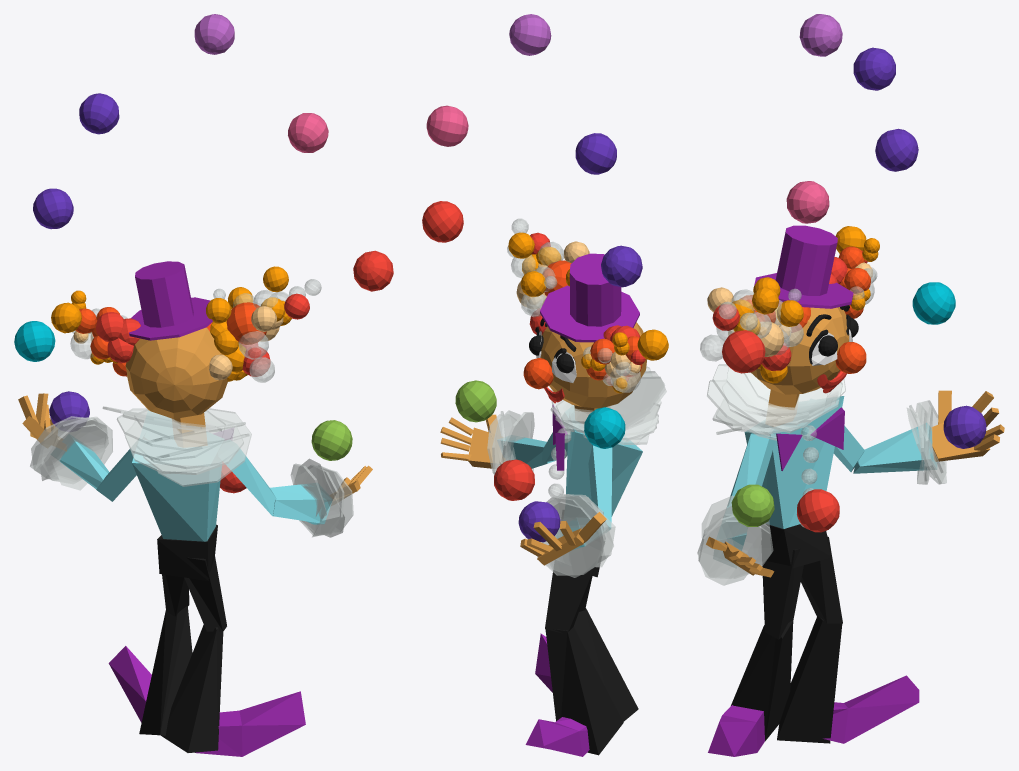
The model's file is clown.glb.
3 renders of one model, left to right at view 1: azimuth 30°, elevation 25°; view 2: azimuth 150°, elevation 25°; view 3: azimuth 270°, elevation 25°, orthographic. The views are drawn at different scales.
Visible parts, largest first — view 1: group1166919400, group745200281, group1932164913, group1967414317, group594973213, group2106079803, group1957194144, group402655206, group1767884918, group1244178379, group1338388713, group1126960633 (+35 smaller); view 2: group1967414317, group1166919400, group2106079803, group1932164913, group1969849262, group745200281, group1440303006, group1078805470, group1218340031, group482203096, group189487495, group1123830451 (+31 smaller); view 3: group1967414317, group1932164913, group745200281, group2106079803, group1166919400, group482203096, group1038402614, group1244178379, group594973213, group402655206, group1440303006, group1629626827 (+36 smaller).
Part boxes in pixels (bbox=[...]): group1166919400: bbox=[125, 327, 227, 418]; group745200281: bbox=[161, 624, 223, 752]; group1932164913: bbox=[132, 453, 221, 541]; group1967414317: bbox=[139, 606, 192, 735]; group594973213: bbox=[195, 691, 305, 756]; group2106079803: bbox=[135, 261, 193, 327]; group1957194144: bbox=[124, 410, 225, 461]; group402655206: bbox=[157, 524, 217, 580]; group1767884918: bbox=[157, 408, 251, 486]; group1244178379: bbox=[184, 557, 226, 631]; group1338388713: bbox=[270, 484, 331, 524]; group1126960633: bbox=[143, 418, 243, 474]; group1967414317: bbox=[545, 627, 623, 755]; group1166919400: bbox=[540, 322, 646, 408]; group2106079803: bbox=[569, 253, 621, 326]; group1932164913: bbox=[566, 428, 642, 516]; group1969849262: bbox=[540, 285, 639, 342]; group745200281: bbox=[573, 608, 638, 721]; group1440303006: bbox=[545, 567, 594, 633]; group1078805470: bbox=[537, 494, 615, 575]; group1218340031: bbox=[549, 495, 605, 577]; group482203096: bbox=[525, 717, 589, 756]; group189487495: bbox=[588, 445, 612, 530]; group1123830451: bbox=[583, 376, 666, 438]; group1967414317: bbox=[777, 616, 842, 743]; group1932164913: bbox=[744, 396, 844, 528]; group745200281: bbox=[731, 621, 793, 741]; group2106079803: bbox=[775, 225, 837, 295]; group1166919400: bbox=[751, 307, 849, 394]; group482203096: bbox=[823, 675, 919, 743]; group1038402614: bbox=[853, 423, 936, 473]; group1244178379: bbox=[762, 548, 803, 639]; group594973213: bbox=[708, 705, 764, 756]; group402655206: bbox=[765, 524, 830, 567]; group1440303006: bbox=[800, 536, 842, 623]; group1629626827: bbox=[722, 382, 827, 425].
Size of the model in its own units: 0.6434 by 1.51 by 0.5641.
